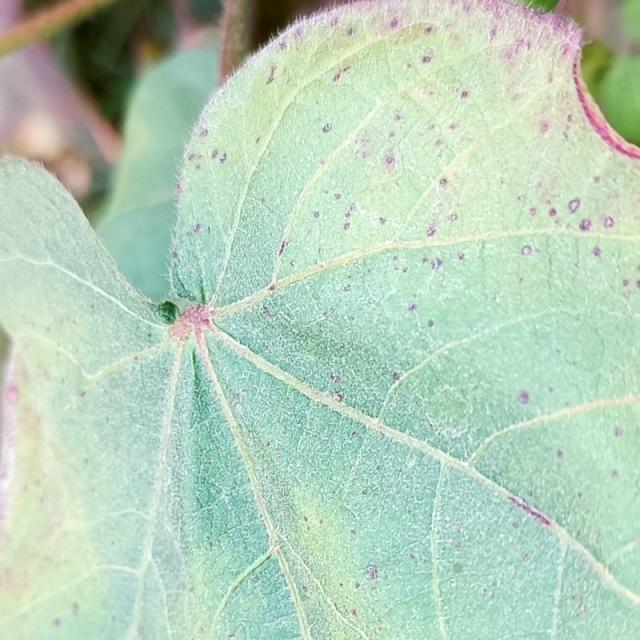Bacterial_Blight: (422, 383, 482, 434), (509, 495, 551, 525), (501, 35, 537, 69), (372, 149, 400, 179), (428, 253, 449, 278), (331, 64, 353, 84), (621, 275, 636, 300), (5, 386, 20, 405), (265, 66, 277, 85), (344, 203, 358, 218), (567, 198, 581, 213), (365, 566, 379, 580), (517, 390, 530, 404), (278, 240, 288, 256), (452, 561, 465, 573), (521, 245, 535, 256), (579, 219, 591, 231), (604, 216, 615, 228), (426, 225, 437, 236), (591, 246, 602, 257), (540, 121, 549, 134), (407, 302, 417, 313), (330, 372, 340, 383), (393, 109, 403, 120), (198, 126, 208, 137), (360, 149, 371, 159), (389, 18, 399, 29), (72, 603, 80, 616), (261, 306, 271, 316), (322, 123, 332, 133), (218, 152, 227, 163), (193, 223, 202, 234), (614, 426, 623, 437), (187, 153, 198, 162), (332, 72, 341, 83), (489, 28, 497, 40), (529, 207, 538, 217), (434, 139, 444, 148), (137, 624, 144, 636), (457, 252, 466, 261), (239, 389, 248, 398), (392, 372, 401, 381), (422, 55, 431, 64), (449, 122, 458, 131), (548, 208, 557, 217), (334, 393, 343, 402), (593, 175, 602, 184), (424, 26, 433, 35), (447, 579, 456, 588), (556, 449, 564, 459), (211, 149, 219, 159), (267, 284, 277, 292), (343, 284, 352, 292), (427, 319, 435, 328), (460, 91, 469, 99), (454, 540, 462, 549), (623, 279, 631, 288), (522, 552, 530, 561), (347, 27, 355, 36), (54, 618, 62, 627), (578, 604, 585, 614), (351, 430, 359, 438), (379, 217, 387, 225), (422, 257, 430, 265), (388, 131, 396, 139), (455, 525, 463, 533), (612, 470, 620, 478), (439, 178, 447, 186), (517, 194, 525, 202), (252, 576, 260, 584), (350, 609, 358, 617), (301, 586, 309, 594), (171, 251, 178, 260), (334, 192, 341, 200), (343, 222, 350, 230), (450, 214, 458, 221), (409, 553, 416, 561), (512, 521, 519, 529), (547, 386, 554, 394), (79, 390, 86, 398), (362, 489, 369, 496), (313, 211, 320, 218), (354, 582, 361, 589), (376, 465, 382, 472), (350, 528, 356, 535), (577, 492, 583, 499), (482, 588, 488, 595), (444, 515, 450, 522), (228, 636, 236, 640), (303, 516, 308, 522), (637, 280, 640, 289)
Cotton: (0, 0, 639, 639)
